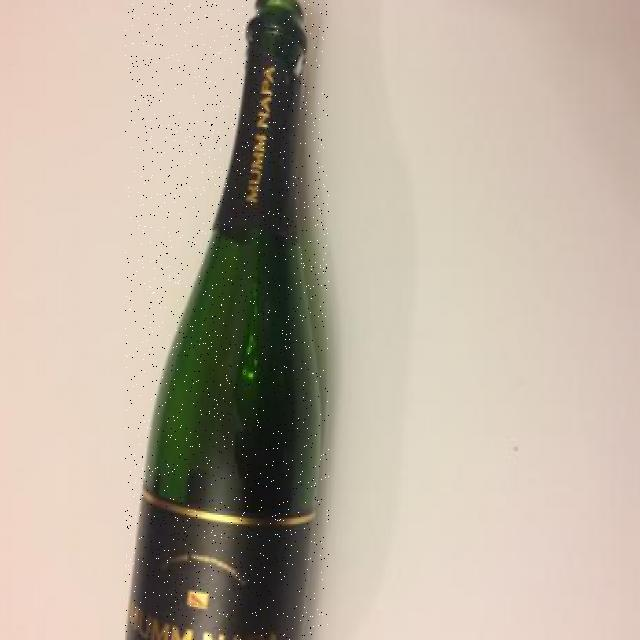glass: (125, 0, 329, 640)
